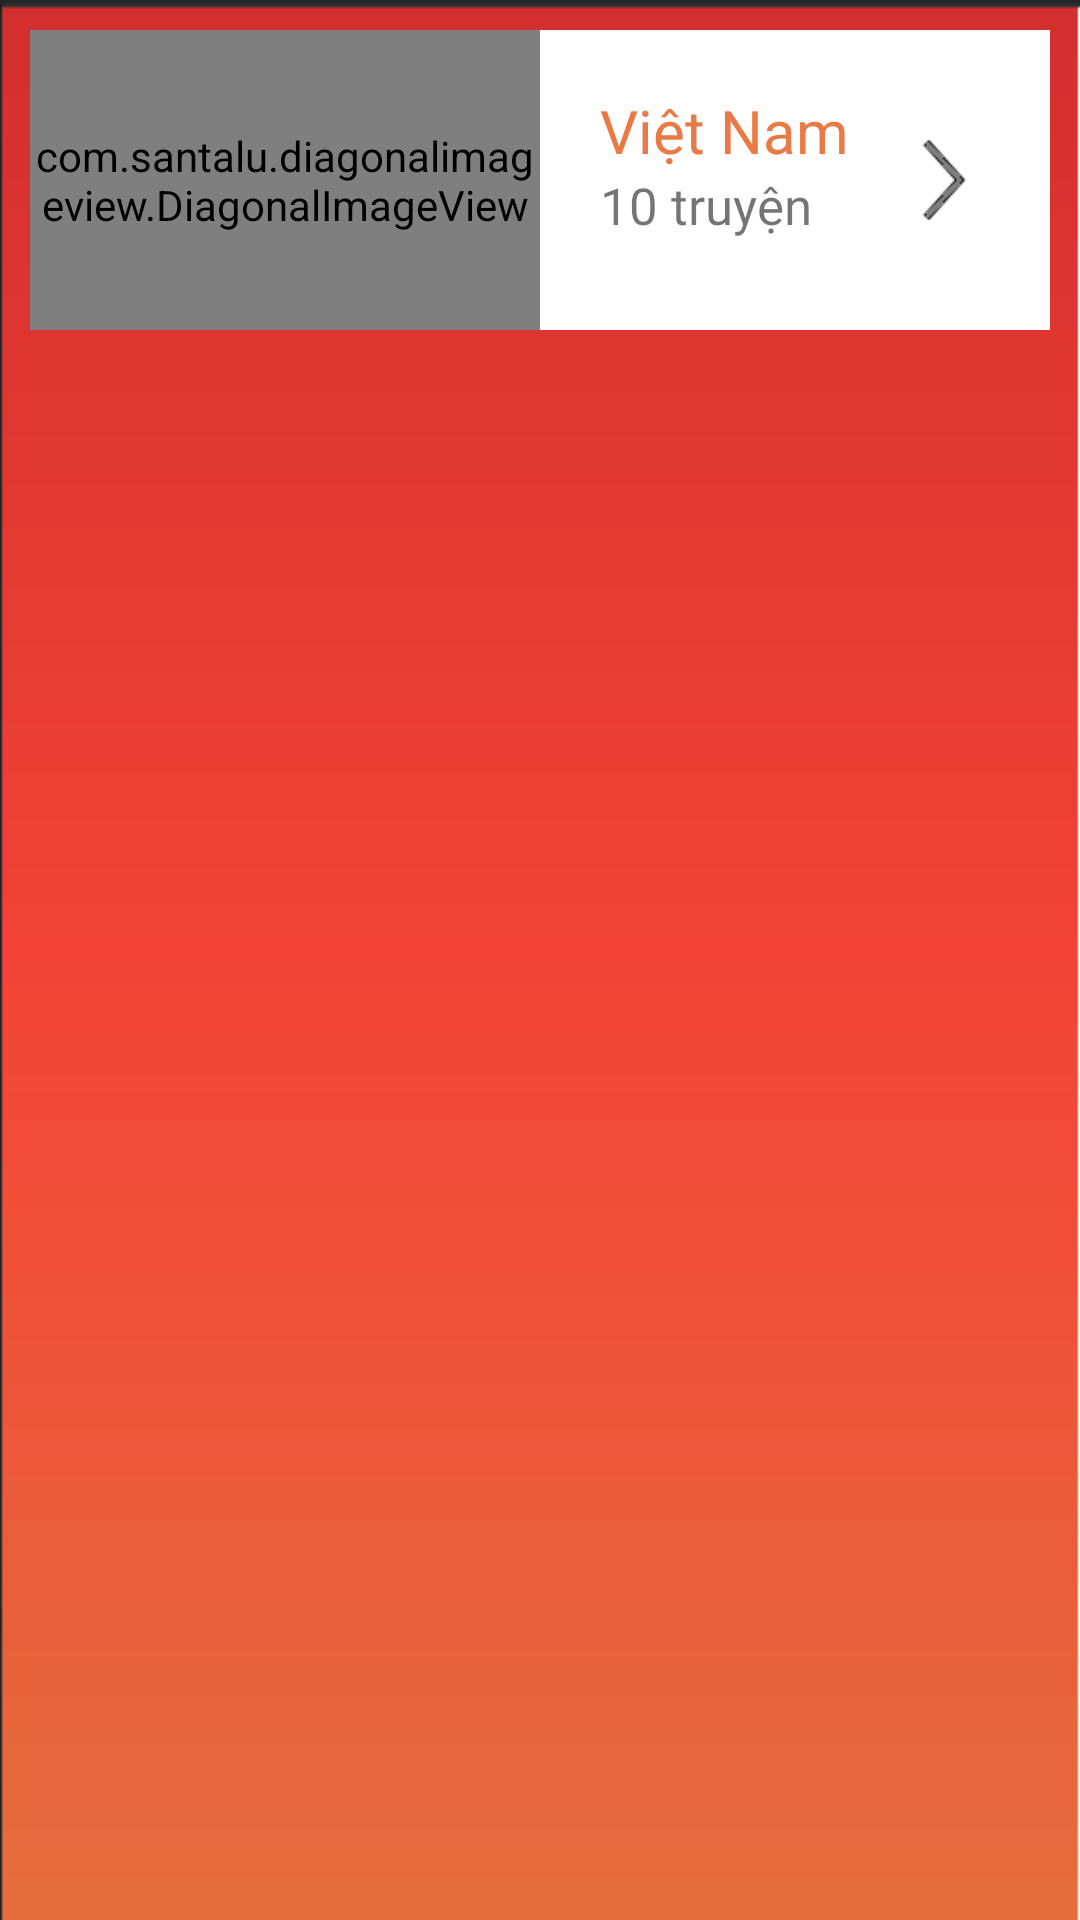

Named icons in this screenshot (1080×1920) and their bounding boxes, box=[x1, y1, x2, y2]:
arrow right: box=[922, 140, 966, 220]
